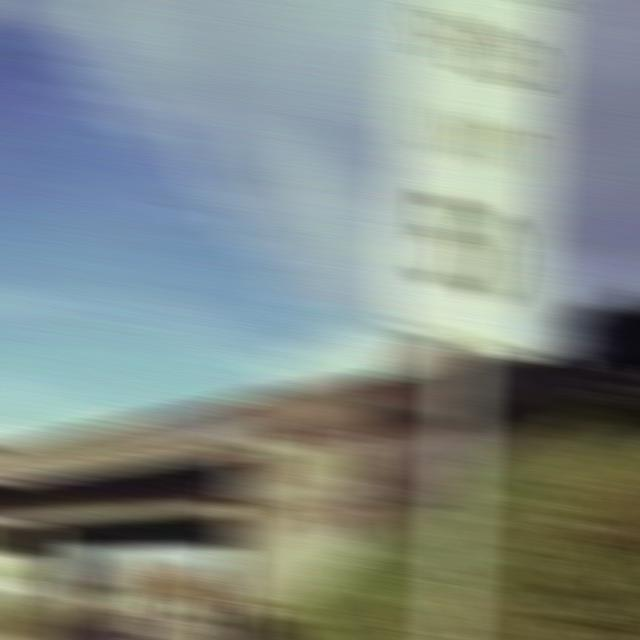speedLimit50: (381, 16, 565, 334)
